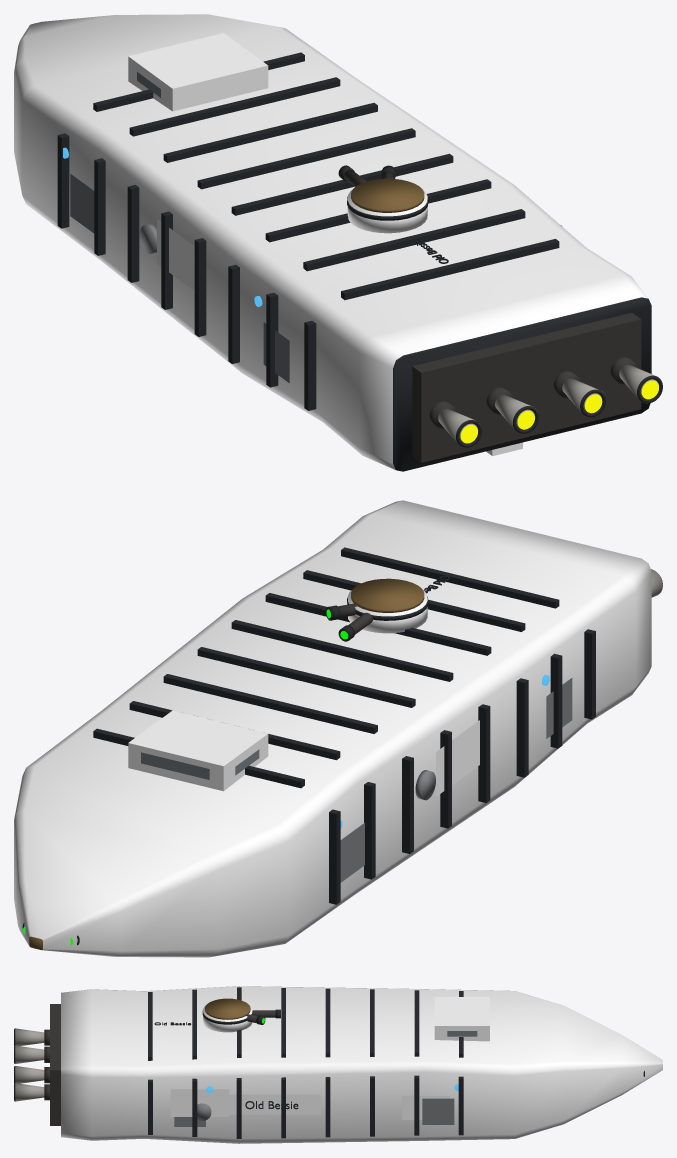
File: Ship_Blocky_7.glb
The picture shows the model from 3 angles, top to bottom: view 1: azimuth 30°, elevation 25°; view 2: azimuth 150°, elevation 25°; view 3: azimuth 270°, elevation 25°; orthographic projection. The views are drawn at different scales.
Parts seen in each view (by area): view 1: Hull_RoundedRectCargoBody, AftBulkhead_RectangularEngineFrame, BridgeBlock_LowDorsalCommandHouse, CargoRib_02_DorsalCrossBeam, CargoRib_01_DorsalCrossBeam, CargoRib_05_DorsalCrossBeam, CargoRib_06_DorsalCrossBeam, CargoRib_07_DorsalCrossBeam, PillboxTurret_01_DorsalAft_FlatArmoredRoof, CargoRib_04_DorsalCrossBeam, CargoRib_03_DorsalCrossBeam, PillboxTurret_01_DorsalAft_CylindricalArmorWall (+13 smaller); view 2: Hull_RoundedRectCargoBody, BridgeBlock_LowDorsalCommandHouse, CargoRib_04_DorsalCrossBeam, CargoRib_05_DorsalCrossBeam, CargoRib_06_DorsalCrossBeam, CargoRib_01_DorsalCrossBeam, PillboxTurret_01_DorsalAft_FlatArmoredRoof, CargoPaintPanel_02_Left_BroadRegistryPlate, CargoRib_03_DorsalCrossBeam, CargoRib_02_DorsalCrossBeam, CargoRib_03_Left_SidePost, PillboxTurret_01_DorsalAft_CylindricalArmorWall (+12 smaller); view 3: Hull_RoundedRectCargoBody, BridgeBlock_LowDorsalCommandHouse, ShipNamePlate_Right_PaintedBackingPanel, AftBulkhead_RectangularEngineFrame, CargoPaintPanel_01_Right_BroadRegistryPlate, ServiceDoor_Right_02_InsetCargoHatch, PillboxTurret_01_DorsalAft_FlatArmoredRoof, PillboxTurret_01_DorsalAft_CylindricalArmorWall, CargoPaintPanel_03_Right_BroadRegistryPlate, EngineBell_FarRight_ShortCargoNozzle, EngineBell_FarLeft_ShortCargoNozzle, EngineBell_InnerLeft_ShortCargoNozzle (+15 smaller).
Part boxes in pixels (<box>): Hull_RoundedRectCargoBody: <box>14,14,651,471</box>; AftBulkhead_RectangularEngineFrame: <box>412,313,641,462</box>; BridgeBlock_LowDorsalCommandHouse: <box>128,33,268,111</box>; CargoRib_02_DorsalCrossBeam: <box>303,209,525,271</box>; CargoRib_01_DorsalCrossBeam: <box>341,239,559,300</box>; CargoRib_05_DorsalCrossBeam: <box>197,128,415,189</box>; CargoRib_06_DorsalCrossBeam: <box>163,103,377,162</box>; CargoRib_07_DorsalCrossBeam: <box>129,77,340,136</box>; PillboxTurret_01_DorsalAft_FlatArmoredRoof: <box>351,178,424,212</box>; CargoRib_04_DorsalCrossBeam: <box>231,153,453,215</box>; CargoRib_03_DorsalCrossBeam: <box>265,179,491,242</box>; PillboxTurret_01_DorsalAft_CylindricalArmorWall: <box>347,189,427,233</box>; Hull_RoundedRectCargoBody: <box>14,500,651,957</box>; BridgeBlock_LowDorsalCommandHouse: <box>128,710,268,791</box>; CargoRib_04_DorsalCrossBeam: <box>231,620,453,681</box>; CargoRib_05_DorsalCrossBeam: <box>197,647,415,707</box>; CargoRib_06_DorsalCrossBeam: <box>163,674,377,733</box>; CargoRib_01_DorsalCrossBeam: <box>341,547,559,608</box>; PillboxTurret_01_DorsalAft_FlatArmoredRoof: <box>351,578,424,612</box>; CargoPaintPanel_02_Left_BroadRegistryPlate: <box>436,720,479,796</box>; CargoRib_03_DorsalCrossBeam: <box>265,593,491,655</box>; CargoRib_02_DorsalCrossBeam: <box>303,570,525,631</box>; CargoRib_03_Left_SidePost: <box>516,678,528,777</box>; PillboxTurret_01_DorsalAft_CylindricalArmorWall: <box>347,590,427,633</box>; Hull_RoundedRectCargoBody: <box>61,986,662,1143</box>; BridgeBlock_LowDorsalCommandHouse: <box>434,997,489,1041</box>; ShipNamePlate_Right_PaintedBackingPanel: <box>222,1094,320,1114</box>; AftBulkhead_RectangularEngineFrame: <box>50,1004,60,1125</box>; CargoPaintPanel_01_Right_BroadRegistryPlate: <box>170,1089,229,1116</box>; ServiceDoor_Right_02_InsetCargoHatch: <box>422,1098,454,1124</box>; PillboxTurret_01_DorsalAft_FlatArmoredRoof: <box>205,998,250,1019</box>; PillboxTurret_01_DorsalAft_CylindricalArmorWall: <box>203,1005,252,1032</box>; CargoPaintPanel_03_Right_BroadRegistryPlate: <box>402,1096,449,1119</box>; EngineBell_FarRight_ShortCargoNozzle: <box>15,1083,44,1101</box>; EngineBell_FarLeft_ShortCargoNozzle: <box>15,1028,44,1046</box>; EngineBell_InnerLeft_ShortCargoNozzle: <box>15,1045,44,1063</box>.
Bounding box in the file's own units: 2.18 × 1.2 × 6.68.
